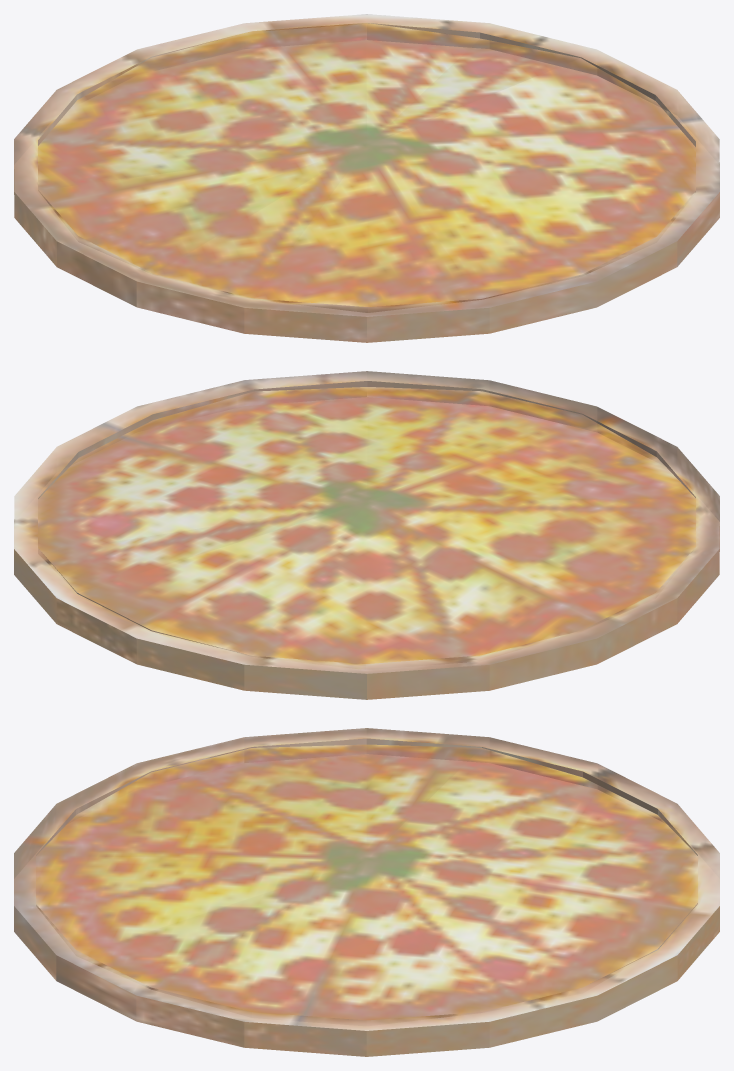
The model's file is PSX_Low-Poly_Pizza.glb.
3 renders of one model, top to bottom at view 1: azimuth 30°, elevation 25°; view 2: azimuth 150°, elevation 25°; view 3: azimuth 270°, elevation 25°, orthographic.
Visible parts, largest first — view 1: unnamed; view 2: unnamed; view 3: unnamed.
Boxes of the visible parts, <box> form: unnamed: <box>14,14,719,342</box>; unnamed: <box>14,371,719,699</box>; unnamed: <box>14,728,719,1056</box>.
Size of the model in its own units: 1.02 by 0.0719 by 1.
1 material, 1 textured.
